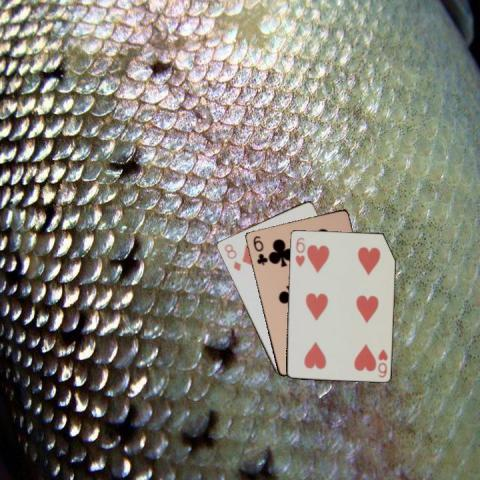6c: (250, 232, 268, 266)
6h: (292, 234, 306, 268), (374, 346, 388, 379)
8d: (221, 241, 242, 272)
